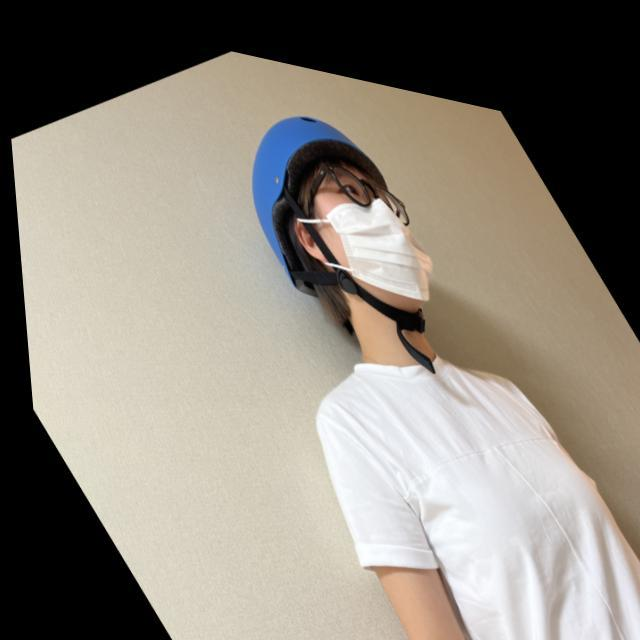Helmet: (246, 99, 450, 347)
